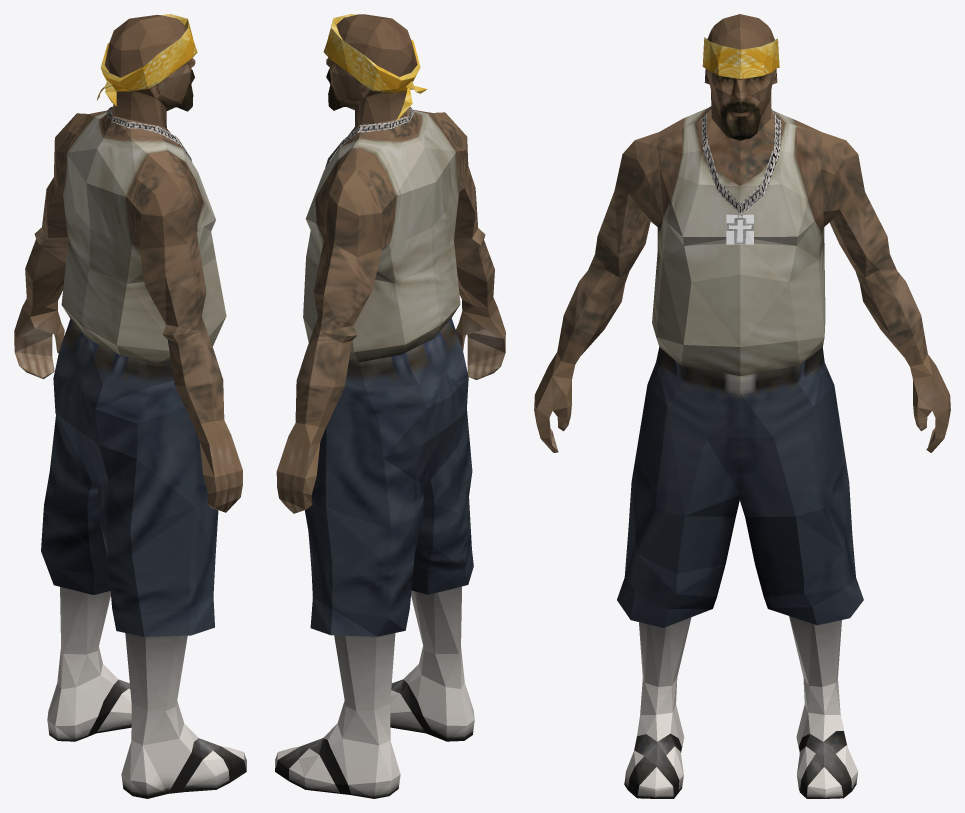
Rendered from lsv3.obj.
3 renders of one model, left to right at view 1: azimuth 30°, elevation 25°; view 2: azimuth 150°, elevation 25°; view 3: azimuth 270°, elevation 25°, orthographic. The views are drawn at different scales.
Parts seen in each view (by area): view 1: _Pelvis; view 2: _Pelvis; view 3: _Pelvis.
Part boxes in pixels (x1=…): _Pelvis: x1=14, y1=14, x2=246, y2=798; _Pelvis: x1=275, y1=14, x2=505, y2=798; _Pelvis: x1=534, y1=14, x2=950, y2=798.
Bounding box in the file's own units: 0.3637 × 1.87 × 0.9308.
2 materials, 2 textured.
